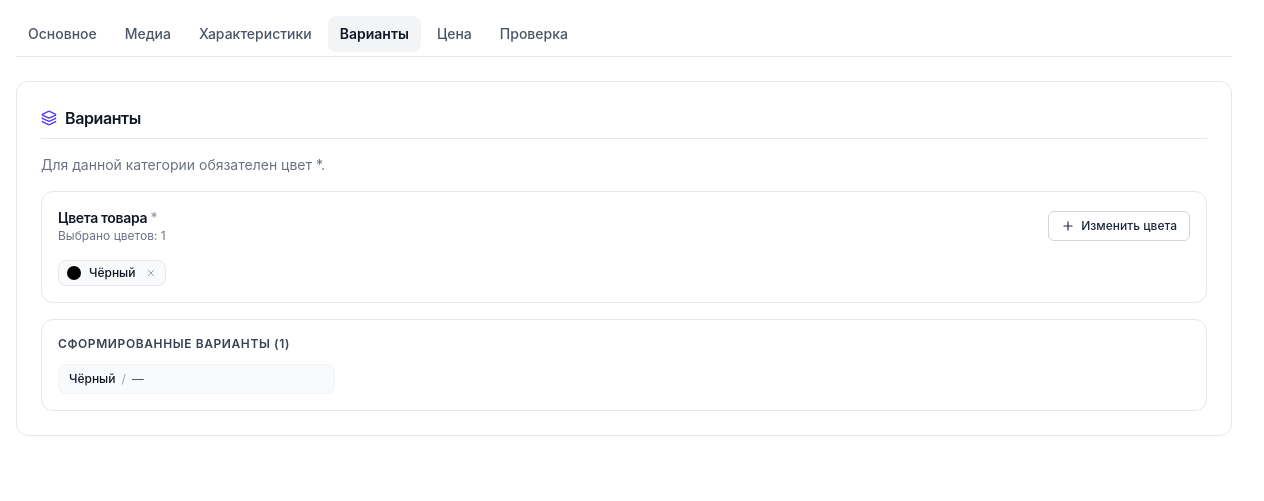
ProductStudioFormWorkspace - Variant Editing Parity (PS.R4B3.1C4C3B3A) › 1. Form Colors Editor (COLOR_ONLY) › adds a new color (White) and updates draft.variants via reconciler into Cartesian matrix
// Click Add Color button
Click the button with test id "form-add-color-btn". click: [1119, 226]
box: [1048,211,1190,241]
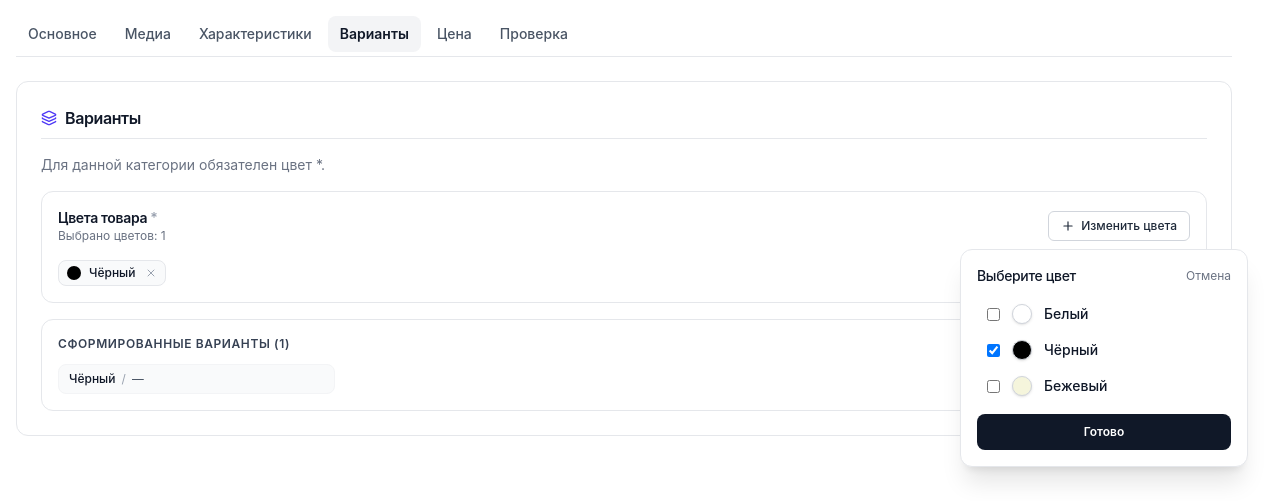
Check: the element with test id "form-color-popover" is shown, box [960,249,1248,467]
// Check White checkbox
Click the checkbox with test id "form-color-option-col-white". click: [994, 314]
box: [987,308,1000,320]
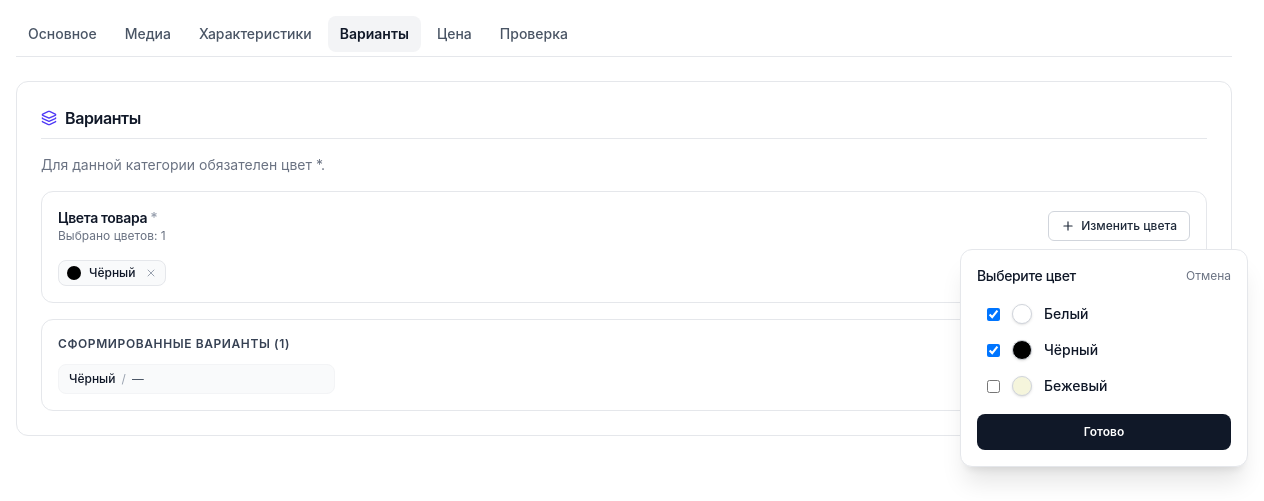
// Click Apply
Click the button with test id "form-color-popover-apply-btn". click: [1104, 432]
box: [977,414,1231,450]
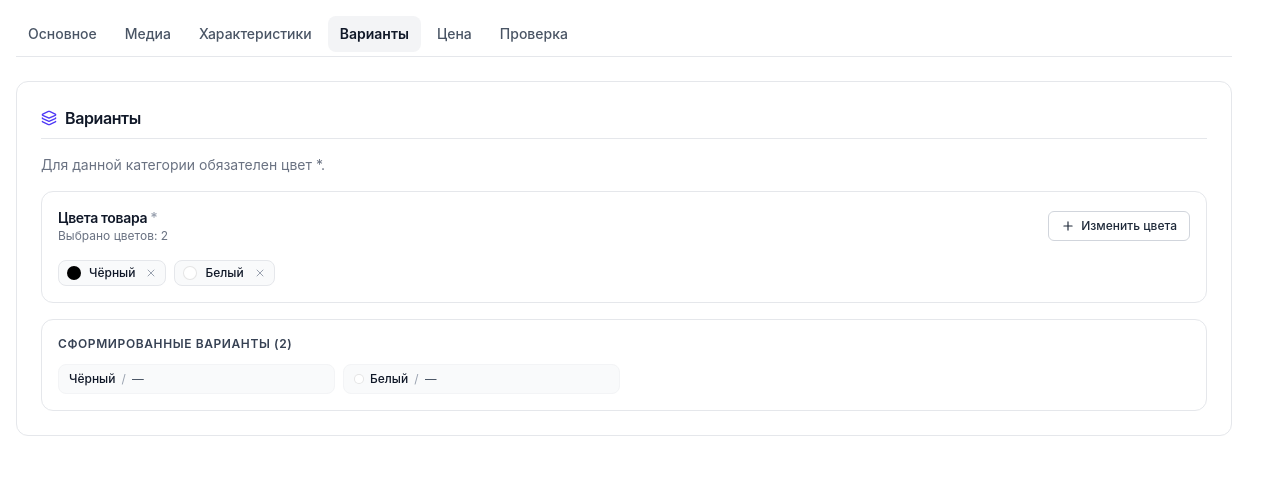
Check: the text "Белый" below "Выбрано цветов: 2" is shown, box [205,265,244,280]
